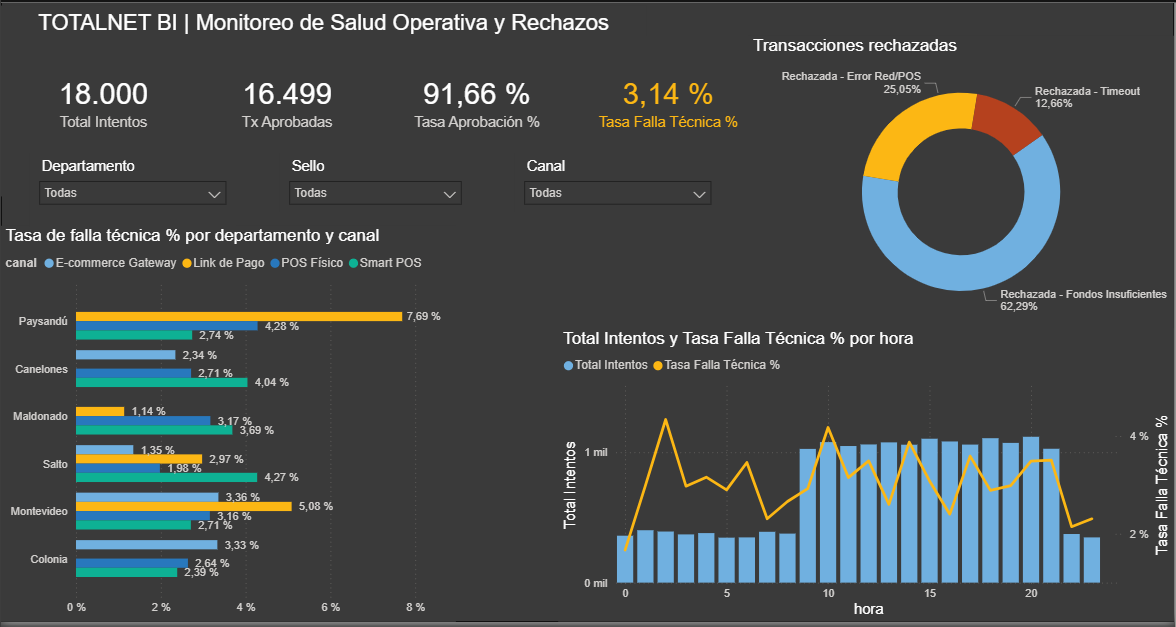

What the dashboard file says about the page in this screenshot:
{"tool":"powerbi","page":{"name":"Salud Operativa","canvas":[1280,720],"ordinal":1},"visuals":[{"type":"card","fields":{"Values":["Medidas_Totalnet.Total Intentos"]},"box":[0,48,224,208],"z":0},{"type":"card","fields":{"Values":["Medidas_Totalnet.Tx Aprobadas"]},"box":[192,48,240,208],"z":1000},{"type":"card","fields":{"Values":["Medidas_Totalnet.Tasa Aprobación %"]},"box":[400,48,240,208],"z":2000},{"type":"card","fields":{"Values":["Medidas_Totalnet.Tasa Falla Técnica %"]},"box":[608,48,240,208],"z":3000},{"type":"clusteredBarChart","fields":{"Category":["public dim_comercios.departamento"],"Y":["Medidas_Totalnet.Tasa Falla Técnica %"],"Series":["public fact_transacciones.canal"]},"box":[0,288,496,432],"z":4000},{"type":"donutChart","title":"Intentos de rechazadas","fields":{"Category":["public fact_transacciones.estado"],"Y":["Medidas_Totalnet.Total Intentos"]},"box":[816,80,464,320],"z":5000},{"type":"lineClusteredColumnComboChart","fields":{"Category":["public fact_transacciones.hora"],"Y":["Medidas_Totalnet.Total Intentos"],"Y2":["Medidas_Totalnet.Tasa Falla Técnica %"]},"box":[608,400,672,320],"z":6000},{"type":"slicer","fields":{"Values":["public dim_comercios.departamento"]},"box":[32,208,224,80],"z":7000},{"type":"slicer","fields":{"Values":["public fact_transacciones.canal"]},"box":[560,208,224,64],"z":8000},{"type":"slicer","fields":{"Values":["public fact_transacciones.sello"]},"box":[304,208,208,64],"z":9000}]}

Visuals, with their boxes on the page's 1280x720 design canvas (x1, y1, x2, y2). These are canvas units, not pixel positions in the 1176x627 screenshot, which may show the page scaled, cropped or inside an application window:
card - Medidas_Totalnet.Total Intentos: BBox(0, 48, 224, 256)
card - Medidas_Totalnet.Tx Aprobadas: BBox(192, 48, 432, 256)
card - Medidas_Totalnet.Tasa Aprobación %: BBox(400, 48, 640, 256)
card - Medidas_Totalnet.Tasa Falla Técnica %: BBox(608, 48, 848, 256)
clusteredBarChart - public dim_comercios.departamento x Medidas_Totalnet.Tasa Falla Técnica %: BBox(0, 288, 496, 720)
"Intentos de rechazadas" donutChart: BBox(816, 80, 1280, 400)
lineClusteredColumnComboChart - public fact_transacciones.hora x Medidas_Totalnet.Total Intentos: BBox(608, 400, 1280, 720)
slicer - public dim_comercios.departamento: BBox(32, 208, 256, 288)
slicer - public fact_transacciones.canal: BBox(560, 208, 784, 272)
slicer - public fact_transacciones.sello: BBox(304, 208, 512, 272)
